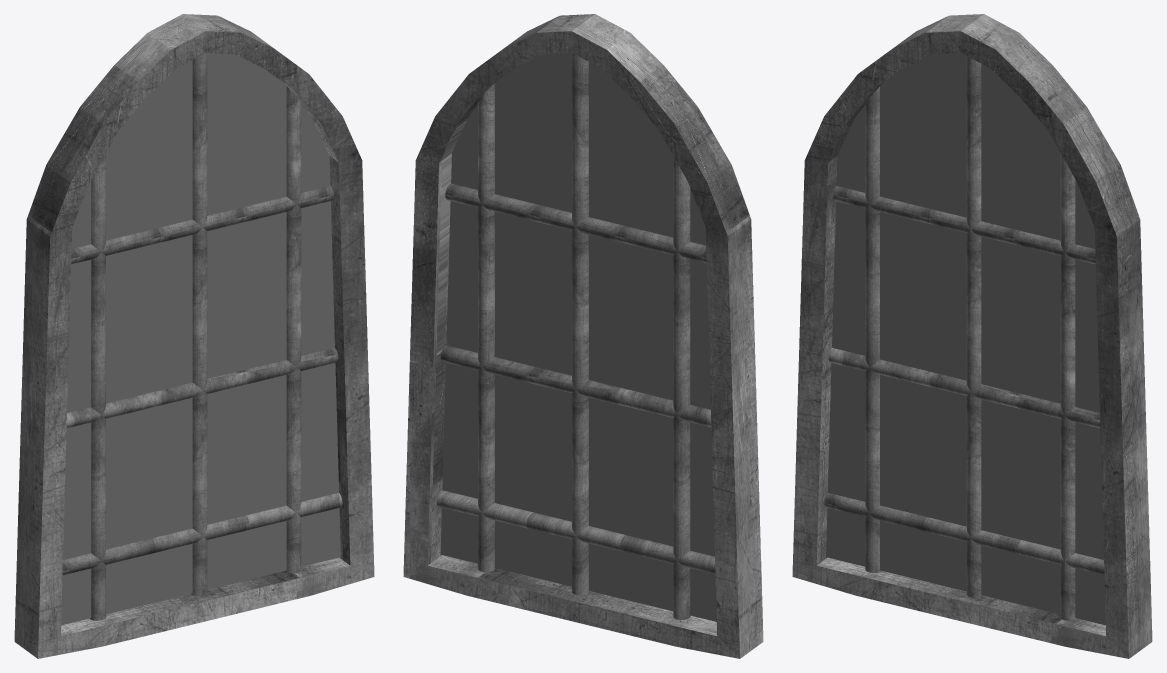
Rendered from окно.fbx.
3 views of the same model, side by side, from view 1: azimuth 30°, elevation 25°; view 2: azimuth 150°, elevation 25°; view 3: azimuth 330°, elevation 25° (orthographic).
Visible parts, largest first — view 1: фон, корпус, балка.004, балка.003, балк, балка, балка.001, балка.002; view 2: фон, корпус, балка.004, балка.003, балк, балка, балка.001, балка.002; view 3: фон, корпус, балка.004, балка.003, балк, балка, балка.002, балка.001.
Boxes of the visible parts, left/top/right/bottom form: фон: left=61, top=53, right=340, bottom=625; корпус: left=14, top=14, right=374, bottom=658; балка.004: left=191, top=53, right=207, bottom=595; балка.003: left=285, top=86, right=301, bottom=573; балк: left=89, top=154, right=105, bottom=620; балка: left=62, top=493, right=342, bottom=575; балка.001: left=66, top=348, right=338, bottom=428; балка.002: left=71, top=186, right=333, bottom=264; фон: left=440, top=53, right=716, bottom=621; корпус: left=403, top=14, right=763, bottom=658; балка.004: left=572, top=53, right=589, bottom=595; балка.003: left=478, top=83, right=495, bottom=572; балк: left=673, top=156, right=690, bottom=619; балка: left=436, top=490, right=715, bottom=573; балка.001: left=440, top=345, right=711, bottom=427; балка.002: left=445, top=183, right=706, bottom=263; фон: left=826, top=53, right=1105, bottom=625; корпус: left=792, top=14, right=1152, bottom=658; балка.004: left=966, top=56, right=982, bottom=597; балка.003: left=1060, top=153, right=1076, bottom=620; балк: left=865, top=87, right=881, bottom=572; балка: left=824, top=493, right=1104, bottom=575; балка.002: left=833, top=186, right=1134, bottom=272; балка.001: left=828, top=348, right=1100, bottom=428.
Bounding box in the file's own units: 324 × 542 × 40.6.
